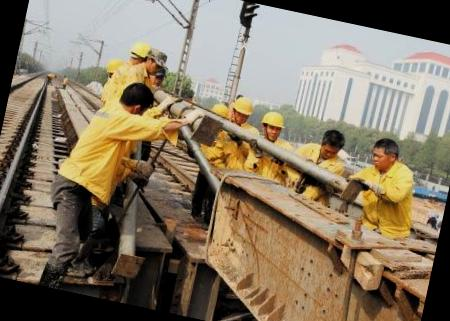no_helmet: (364, 130, 410, 177), (114, 74, 159, 122), (312, 124, 352, 167), (141, 44, 170, 80)
